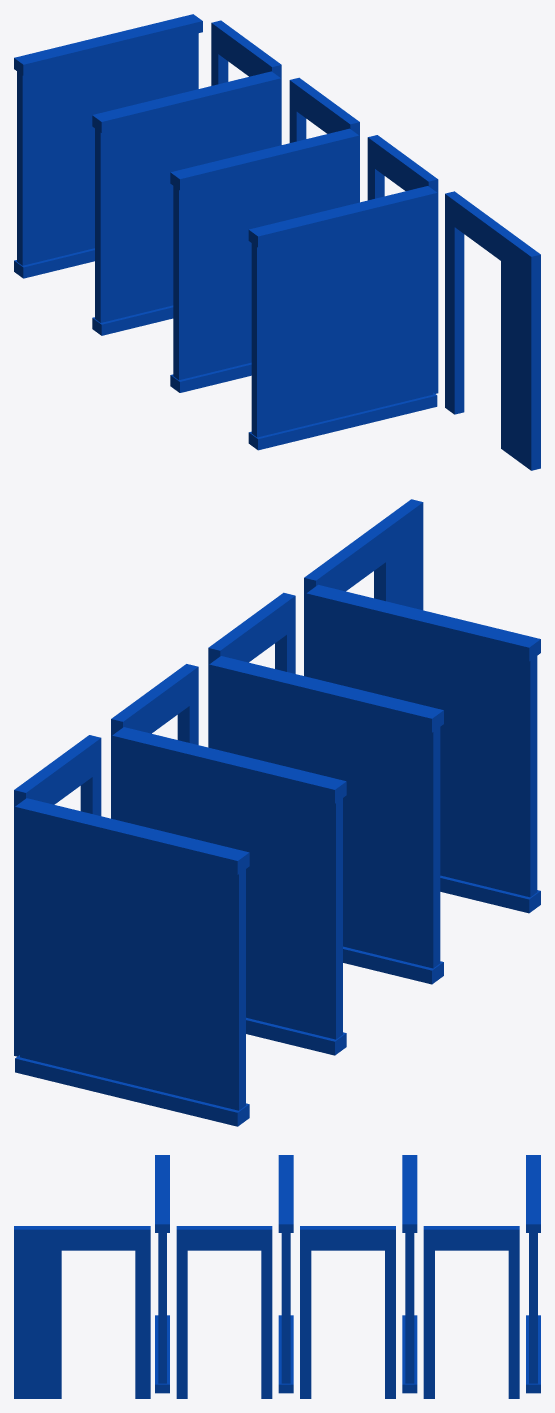
File: Hea_Ba_Toilet_Walls.fbx
3 views of the same model, one above another, from view 1: azimuth 30°, elevation 25°; view 2: azimuth 150°, elevation 25°; view 3: azimuth 270°, elevation 25° (orthographic). The views are drawn at different scales.
Parts seen in each view (by area): view 1: Toilet_Wall, Toilet_Door_Frame_I2.001, Toilet_Door_Frame_I2, Toilet_Door_Frame_I1, Toilet_Door_Frame; view 2: Toilet_Wall, Toilet_Door_Frame_I2.001, Toilet_Door_Frame, Toilet_Door_Frame_I1, Toilet_Door_Frame_I2; view 3: Toilet_Door_Frame_I2.001, Toilet_Wall, Toilet_Door_Frame, Toilet_Door_Frame_I2, Toilet_Door_Frame_I1.
Boxes of the visible parts, x1=… form: Toilet_Wall: x1=14, y1=14, x2=437, y2=450; Toilet_Door_Frame_I2.001: x1=445, y1=191, x2=540, y2=470; Toilet_Door_Frame_I2: x1=367, y1=135, x2=438, y2=393; Toilet_Door_Frame_I1: x1=289, y1=77, x2=359, y2=203; Toilet_Door_Frame: x1=211, y1=20, x2=281, y2=146; Toilet_Wall: x1=15, y1=584, x2=540, y2=1126; Toilet_Door_Frame_I2.001: x1=304, y1=499, x2=423, y2=677; Toilet_Door_Frame: x1=14, y1=735, x2=101, y2=1056; Toilet_Door_Frame_I1: x1=111, y1=664, x2=198, y2=819; Toilet_Door_Frame_I2: x1=208, y1=592, x2=295, y2=748; Toilet_Door_Frame_I2.001: x1=14, y1=1226, x2=150, y2=1398; Toilet_Wall: x1=155, y1=1155, x2=540, y2=1393; Toilet_Door_Frame: x1=423, y1=1226, x2=519, y2=1398; Toilet_Door_Frame_I2: x1=176, y1=1226, x2=272, y2=1398; Toilet_Door_Frame_I1: x1=300, y1=1226, x2=395, y2=1398.
Bounding box in the file's own units: 216 × 228 × 644.
